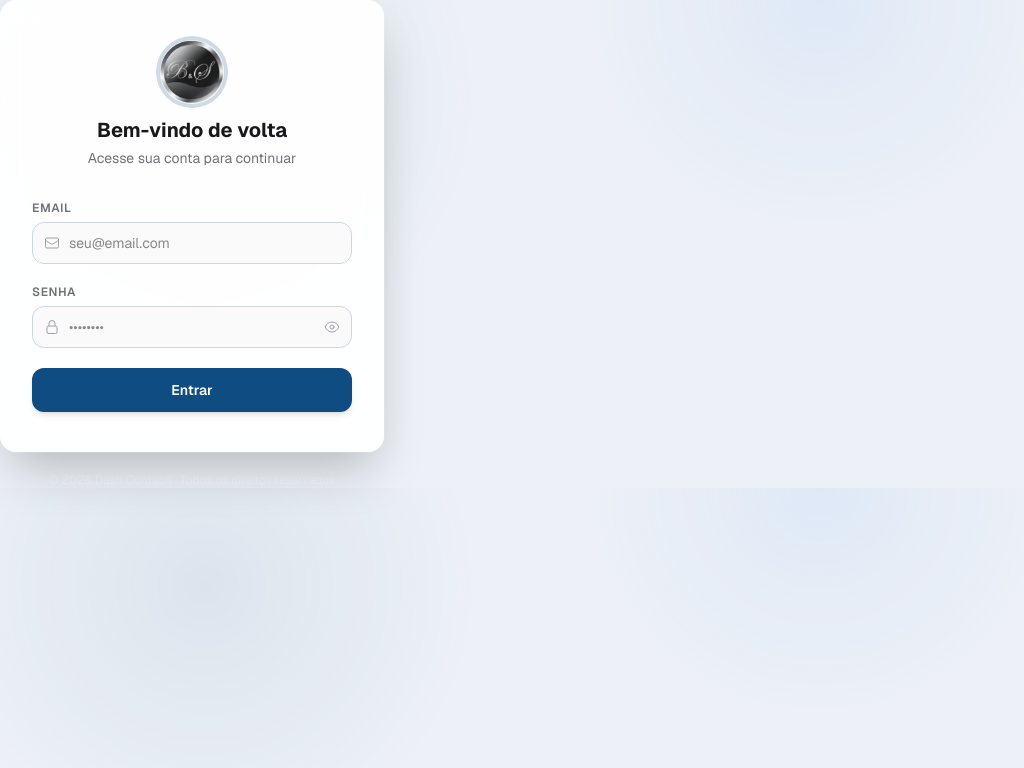
Test: LoginForm › shows API error when login fails
Type "admin@dashcontabil.com" into the field labelled "Email" at (192, 243), box x1=32 y1=222 x2=352 y2=264
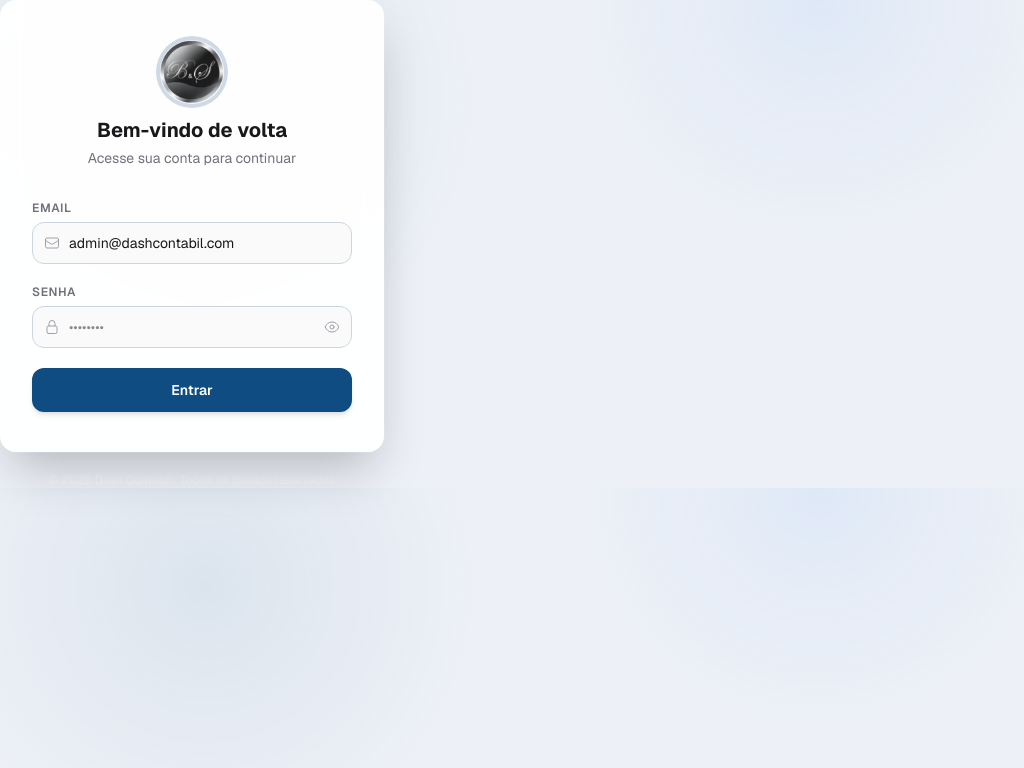
Type "wrongpassword" into the password field labelled "Senha" at (192, 327), box x1=32 y1=306 x2=352 y2=348
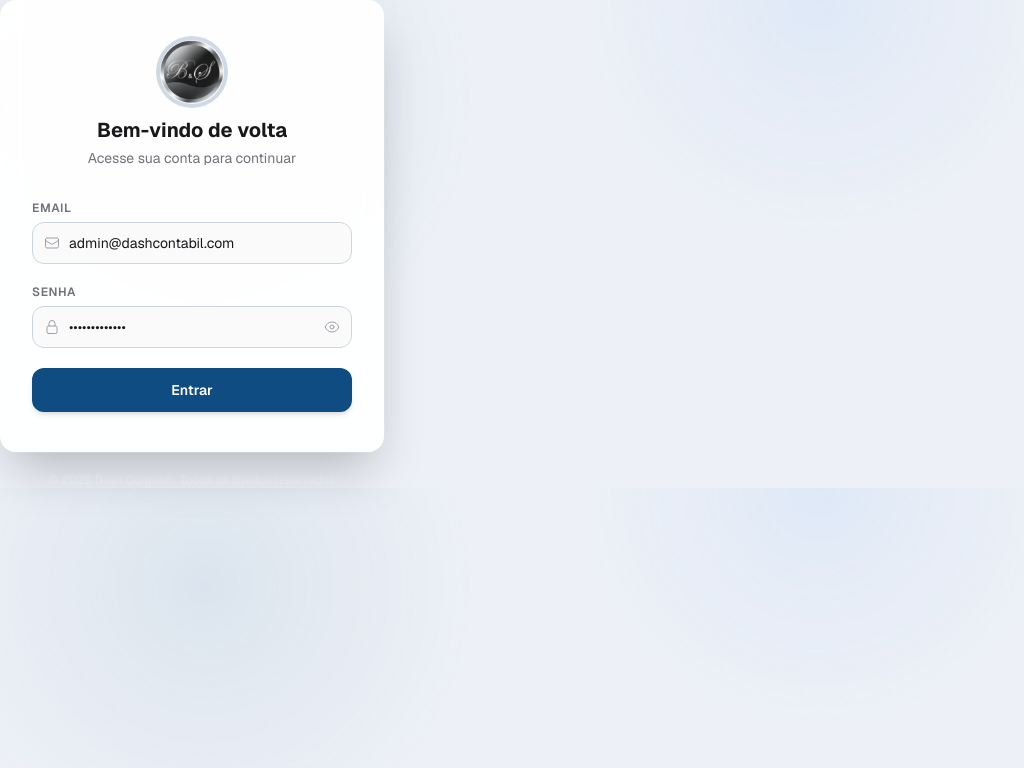
Click the button "Entrar" at (192, 390), box x1=32 y1=368 x2=352 y2=412
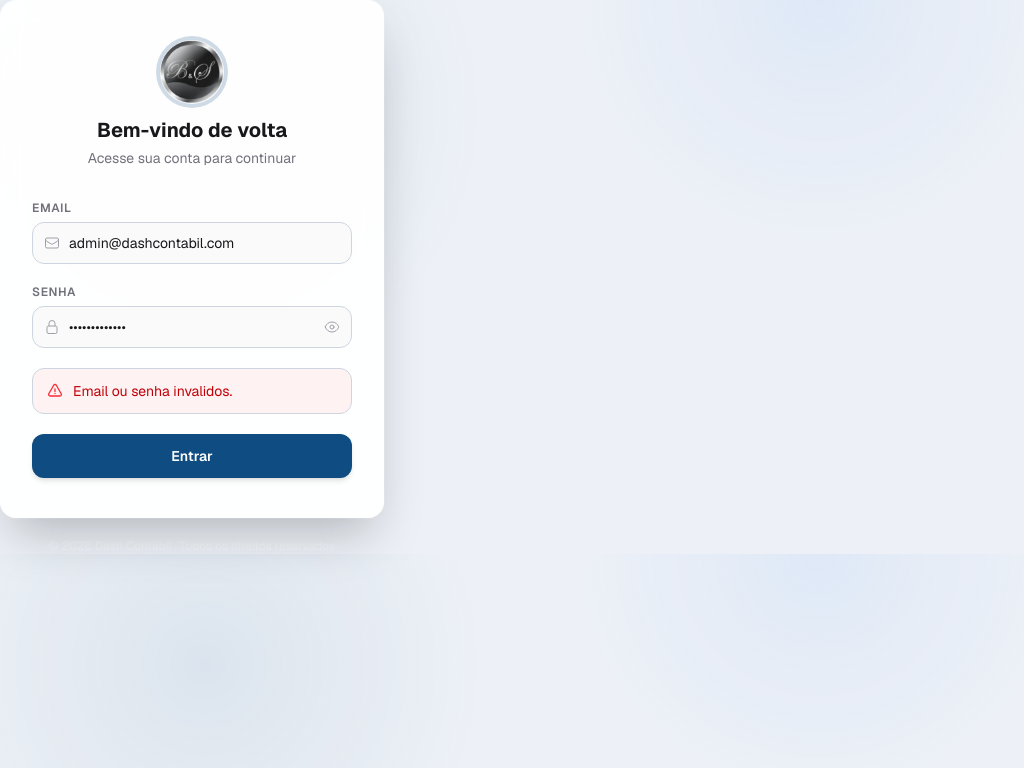
Expected: the text "Email ou senha invalidos." is shown, x1=73 y1=381 x2=232 y2=401
